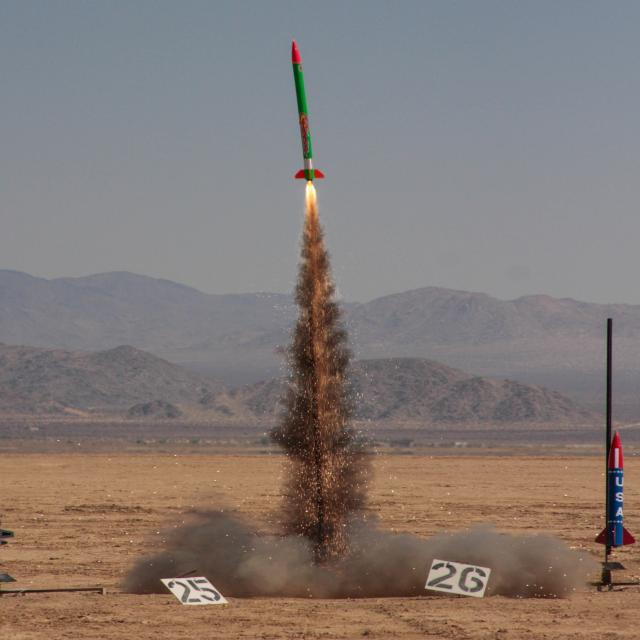Rocket: (593, 428, 637, 550), (290, 38, 326, 182)
